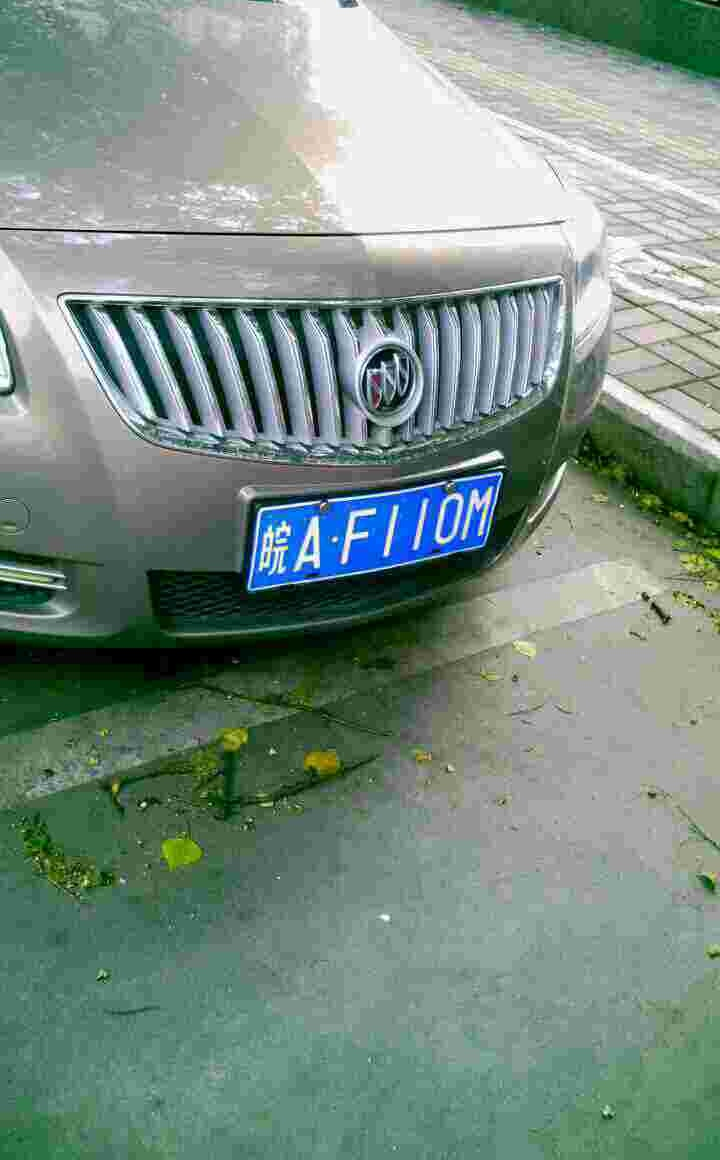license_plate: (251, 473, 514, 600)
